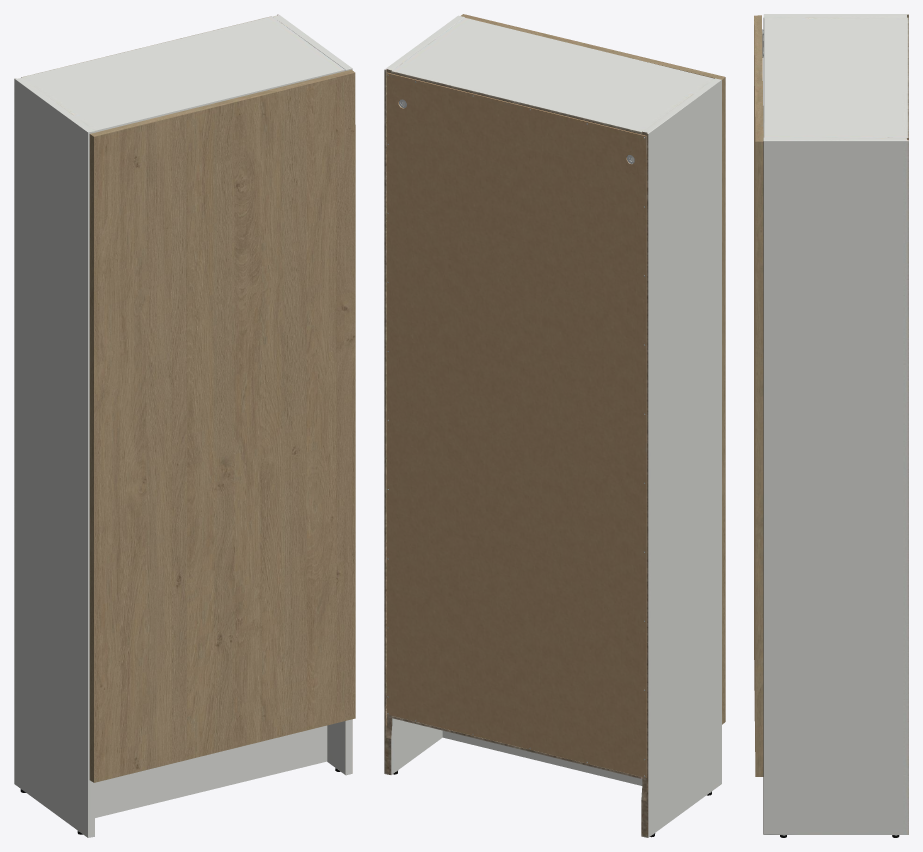
File: knoxhult-armario-alto-con-puerta-efecto-roble-90604246.glb
3 views of the same model, side by side, from view 1: azimuth 30°, elevation 25°; view 2: azimuth 150°, elevation 25°; view 3: azimuth 270°, elevation 25° (orthographic).
Visible parts, largest first — view 1: ASY_LPT01_90604246_S01_NV01, ASY_ART_90604246_S01_NV01; view 2: ASY_ART_90604246_S01_NV01, ASY_LPT01_90604246_S01_NV01; view 3: ASY_ART_90604246_S01_NV01, ASY_LPT01_90604246_S01_NV01.
Part boxes in pixels (<box>): ASY_LPT01_90604246_S01_NV01: <box>89,69,355,782</box>; ASY_ART_90604246_S01_NV01: <box>14,14,352,837</box>; ASY_ART_90604246_S01_NV01: <box>384,15,721,837</box>; ASY_LPT01_90604246_S01_NV01: <box>461,14,725,724</box>; ASY_ART_90604246_S01_NV01: <box>763,14,908,837</box>; ASY_LPT01_90604246_S01_NV01: <box>754,15,763,776</box>.
Bounding box in the file's own units: 0.5999 × 1.54 × 0.3094.
3 materials, 3 textured.
